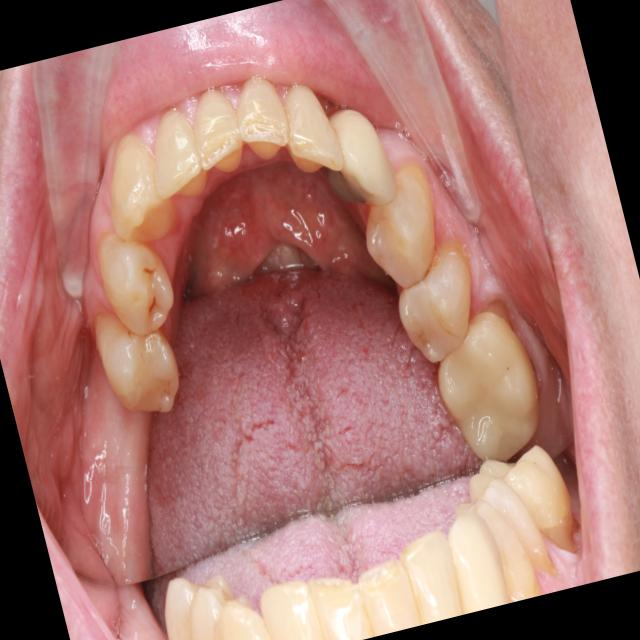tooth: (412, 284, 557, 477), (338, 138, 464, 306), (82, 111, 200, 273), (309, 69, 418, 237), (85, 292, 198, 437), (379, 232, 494, 374), (80, 210, 192, 350), (213, 42, 311, 195), (266, 54, 355, 206), (172, 65, 266, 196), (131, 93, 224, 218)
